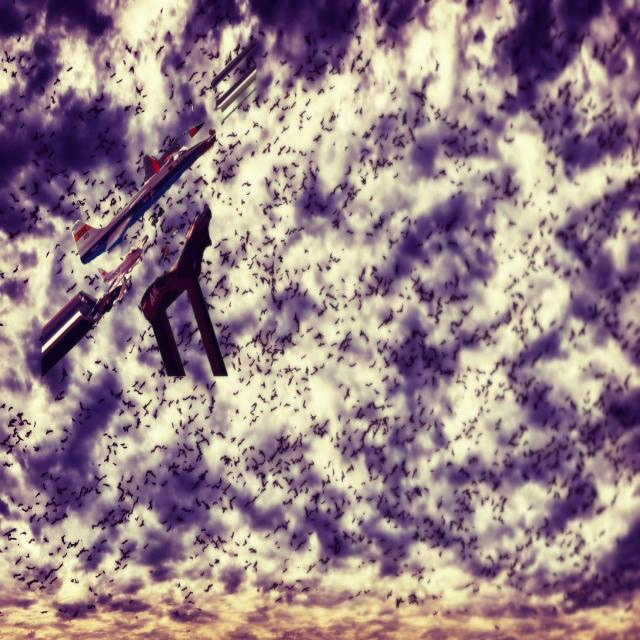airplane: (71, 120, 216, 266), (139, 202, 228, 379), (39, 233, 148, 377)
